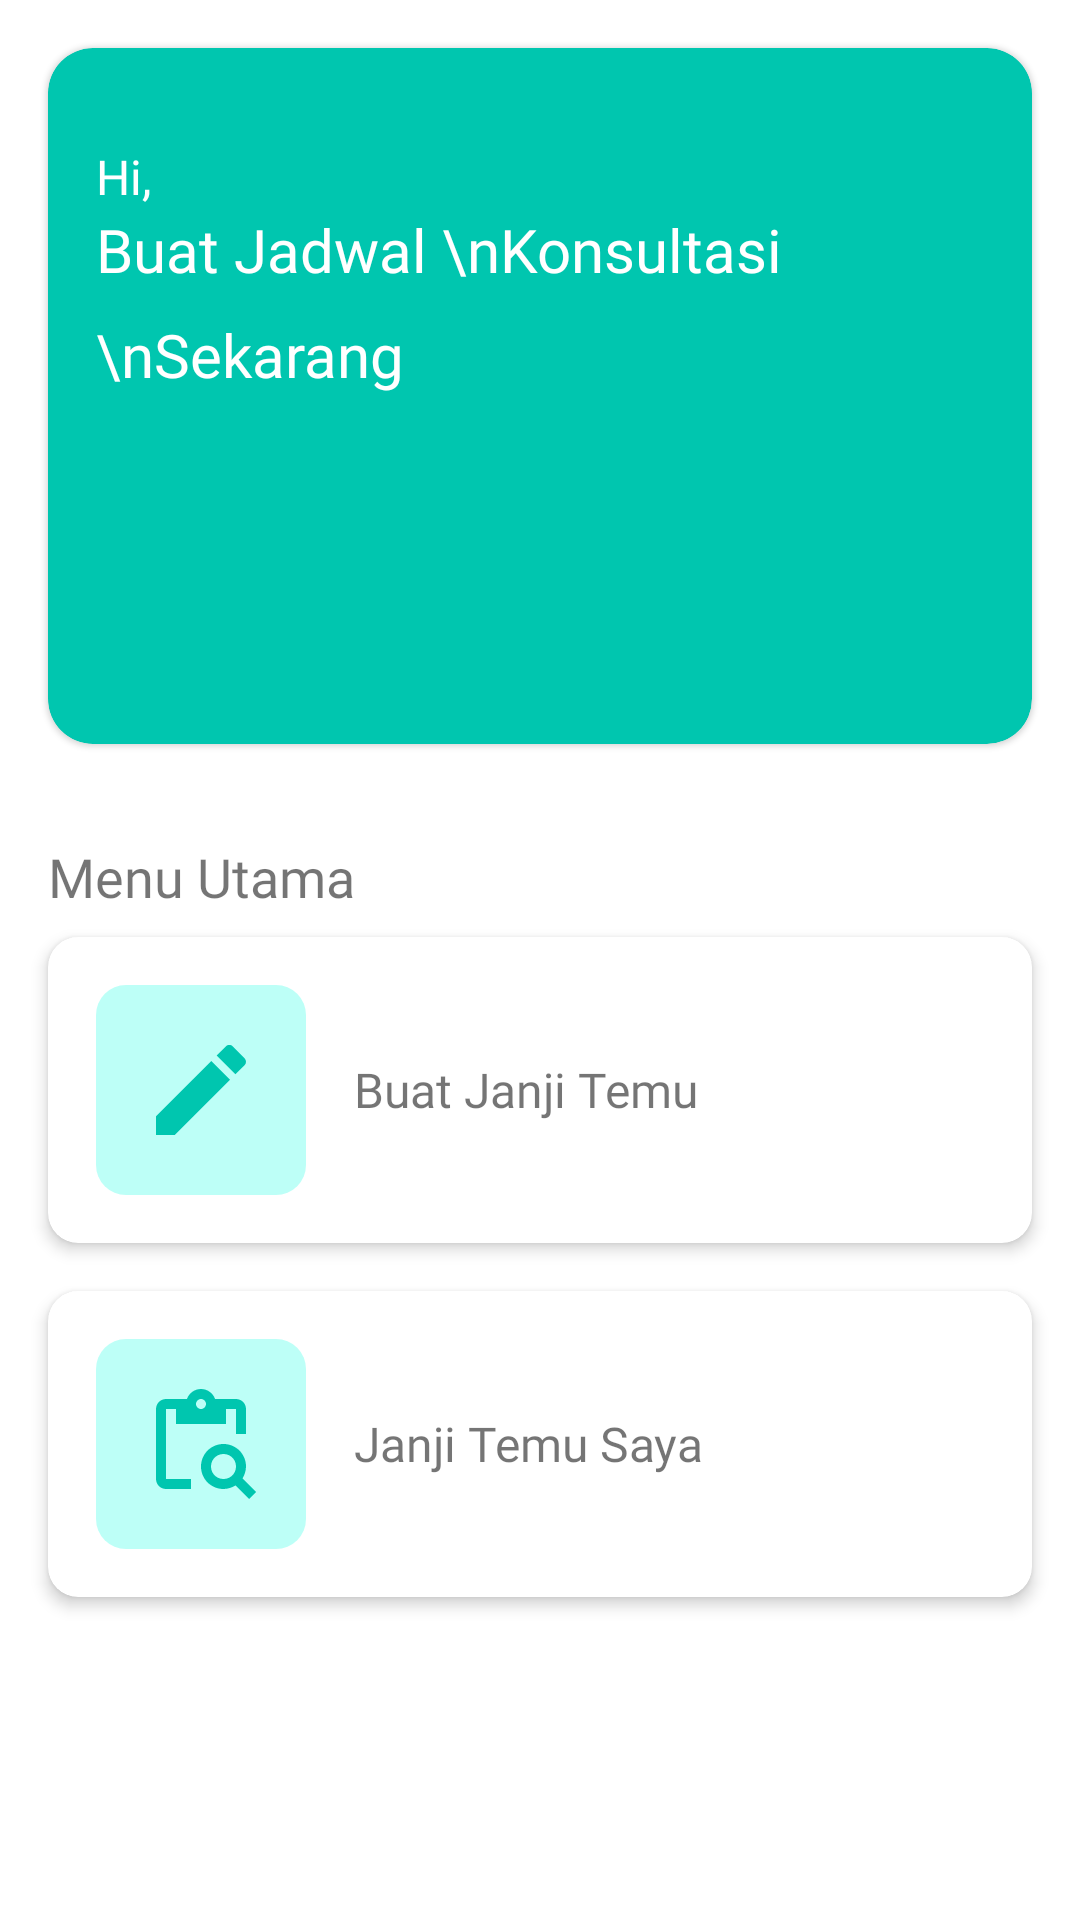

Named icons in this screenshot (1080px×1920px) and their centers, (x=x, y=y):
create: (x=201, y=1090)
